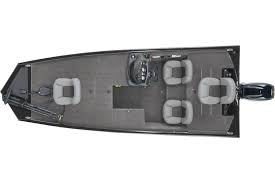boat: (1, 44, 275, 140)
